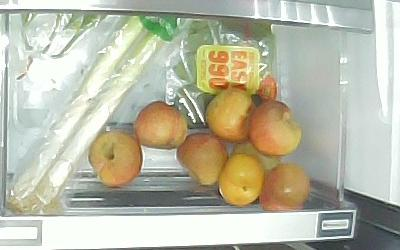prune: (88, 130, 144, 188), (248, 100, 301, 156), (205, 88, 258, 143), (176, 132, 229, 186), (134, 101, 187, 149), (261, 163, 310, 212), (219, 153, 264, 206)
